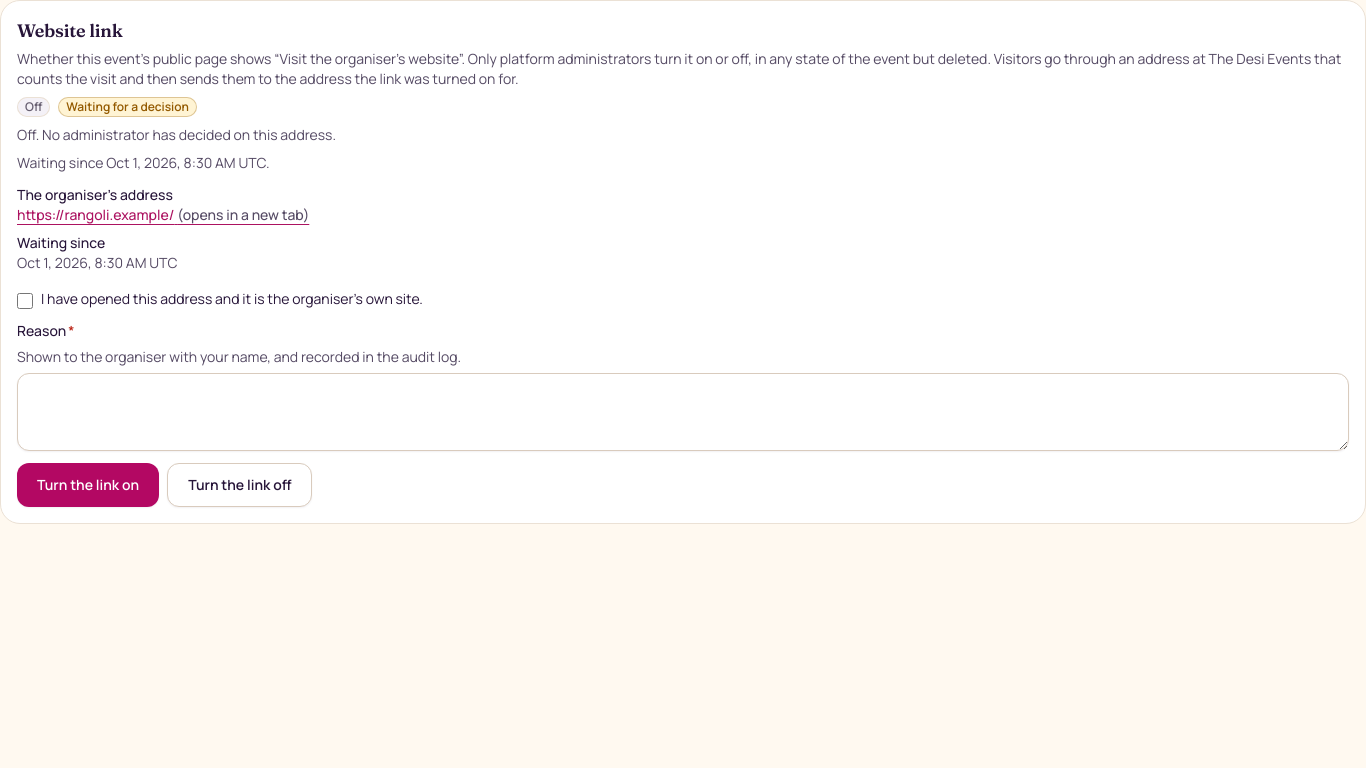
Test: the website link panel › shows a 422’s sentence and its problems
Click the checkbox labelled "I have opened this address and it is the organiser’s own site." at (25, 301), box [17, 293, 33, 309]
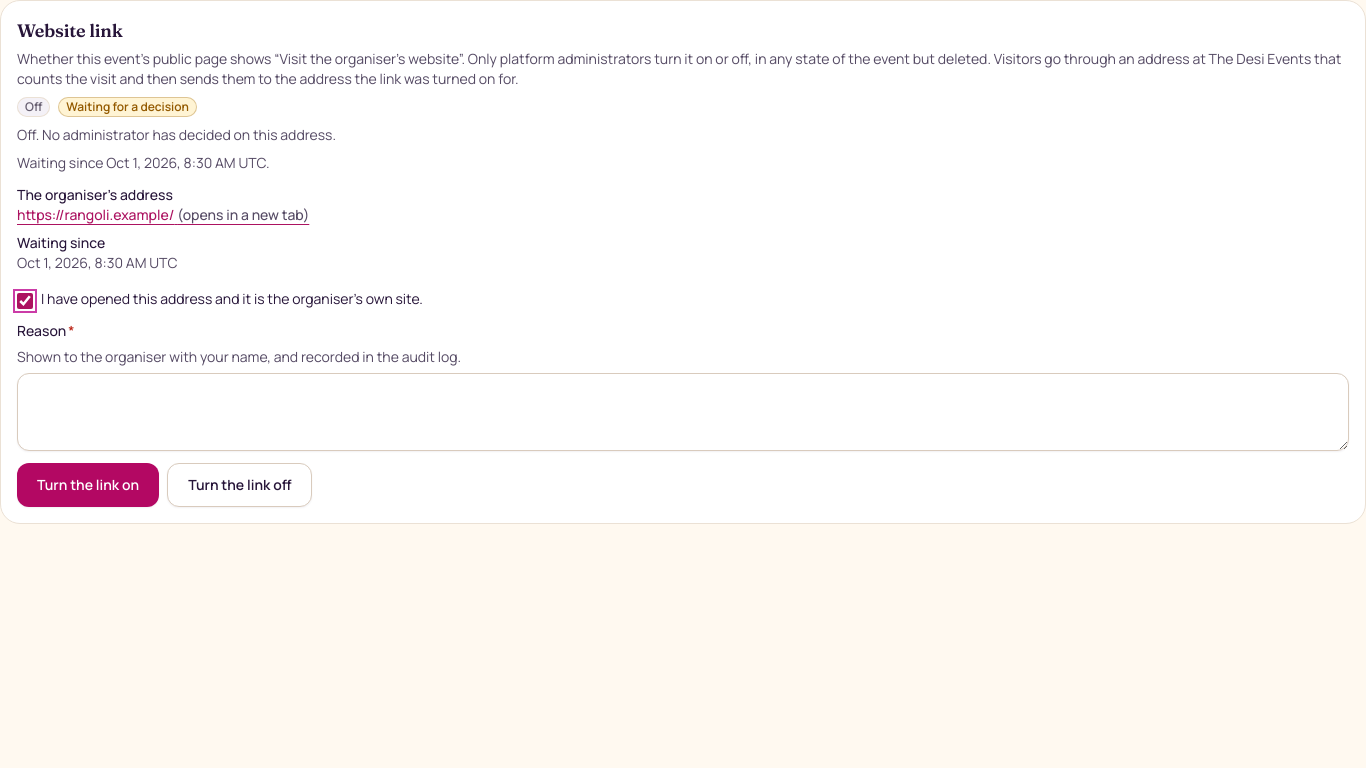
Type "Checked." into the text box labelled "Reason*" at (683, 412), box [17, 373, 1349, 451]
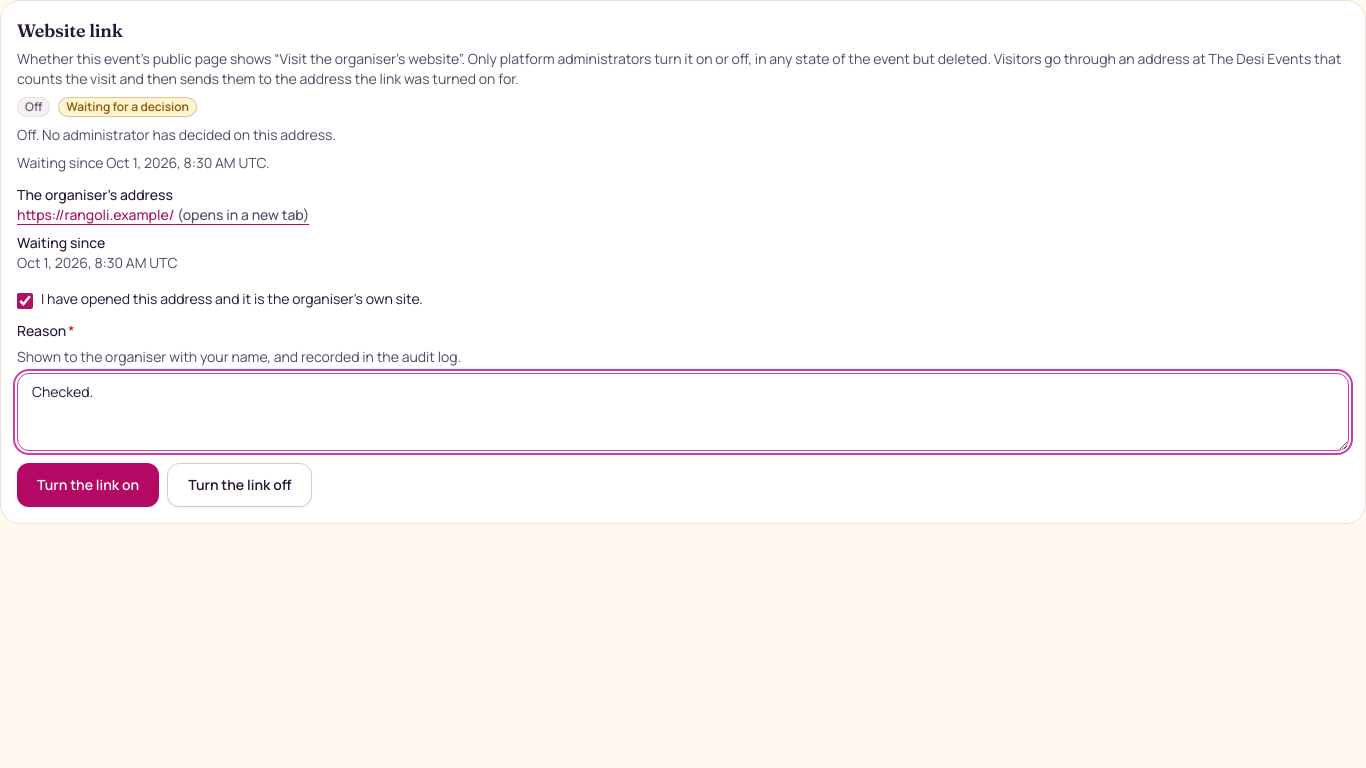
Click the button "Turn the link on" at (88, 485), box [17, 463, 159, 507]
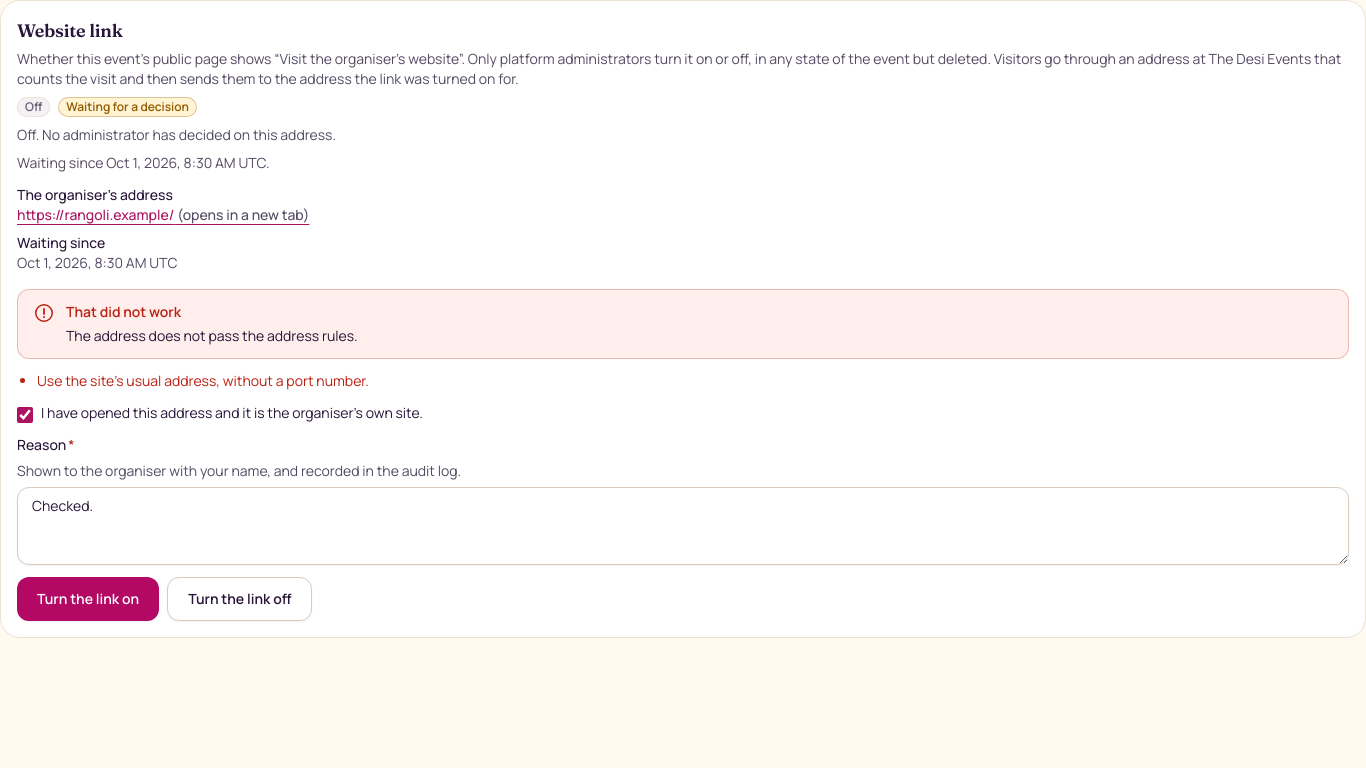
expect the text "The address does not pass the address rules." is shown: met, box [66, 326, 358, 345]
expect the list item "Use the site’s usual address, without a port number." is shown: met, box [37, 371, 369, 390]
